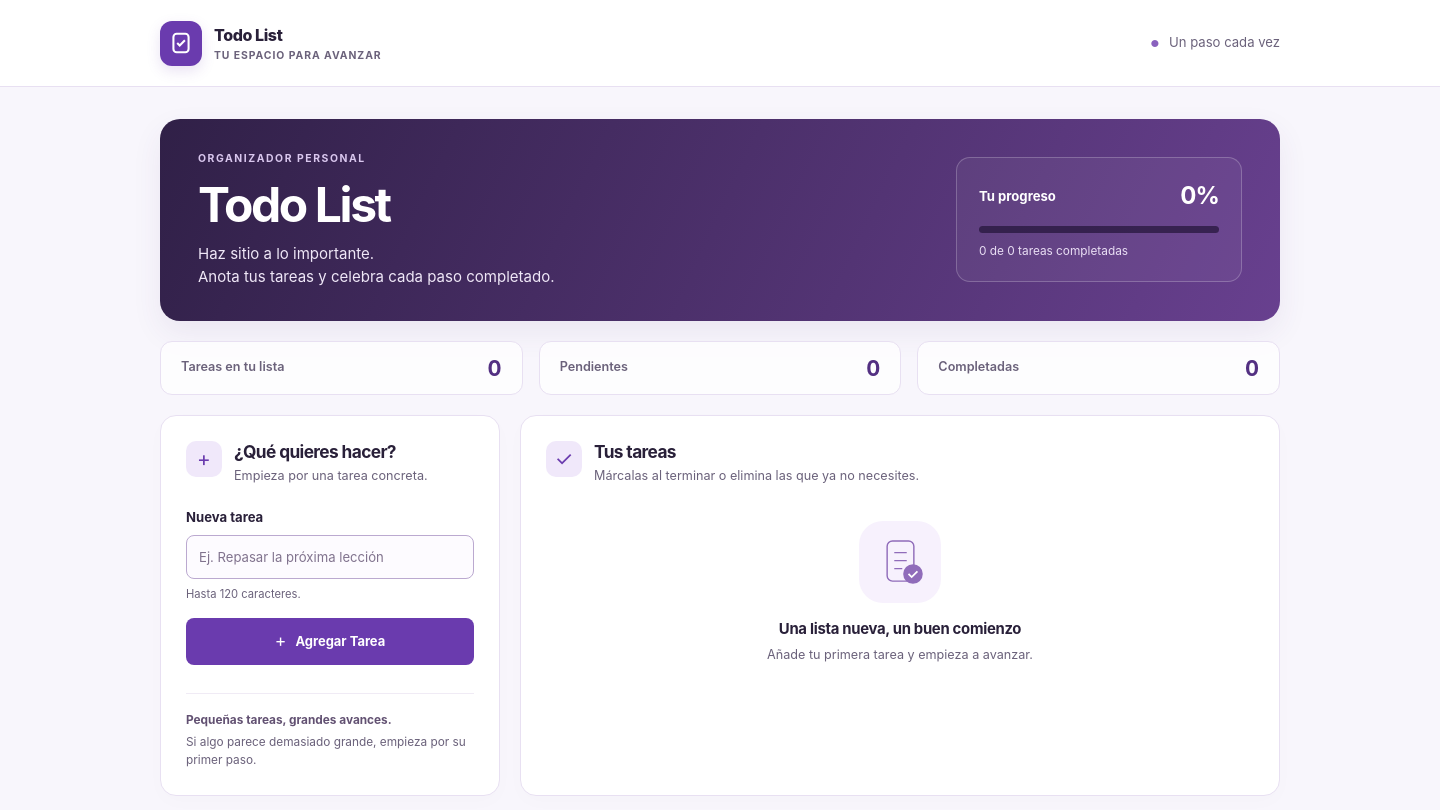
Test: TodoApp · aceptación del flujo de usuario › permite agregar, completar, reabrir y eliminar una tarea
The image size is (1440, 810).
Type "Tarea importante" into the field labelled "Nueva tarea".
click(330, 557); type("Tarea importante")  # box top-left (186, 535), bottom-right (474, 579)
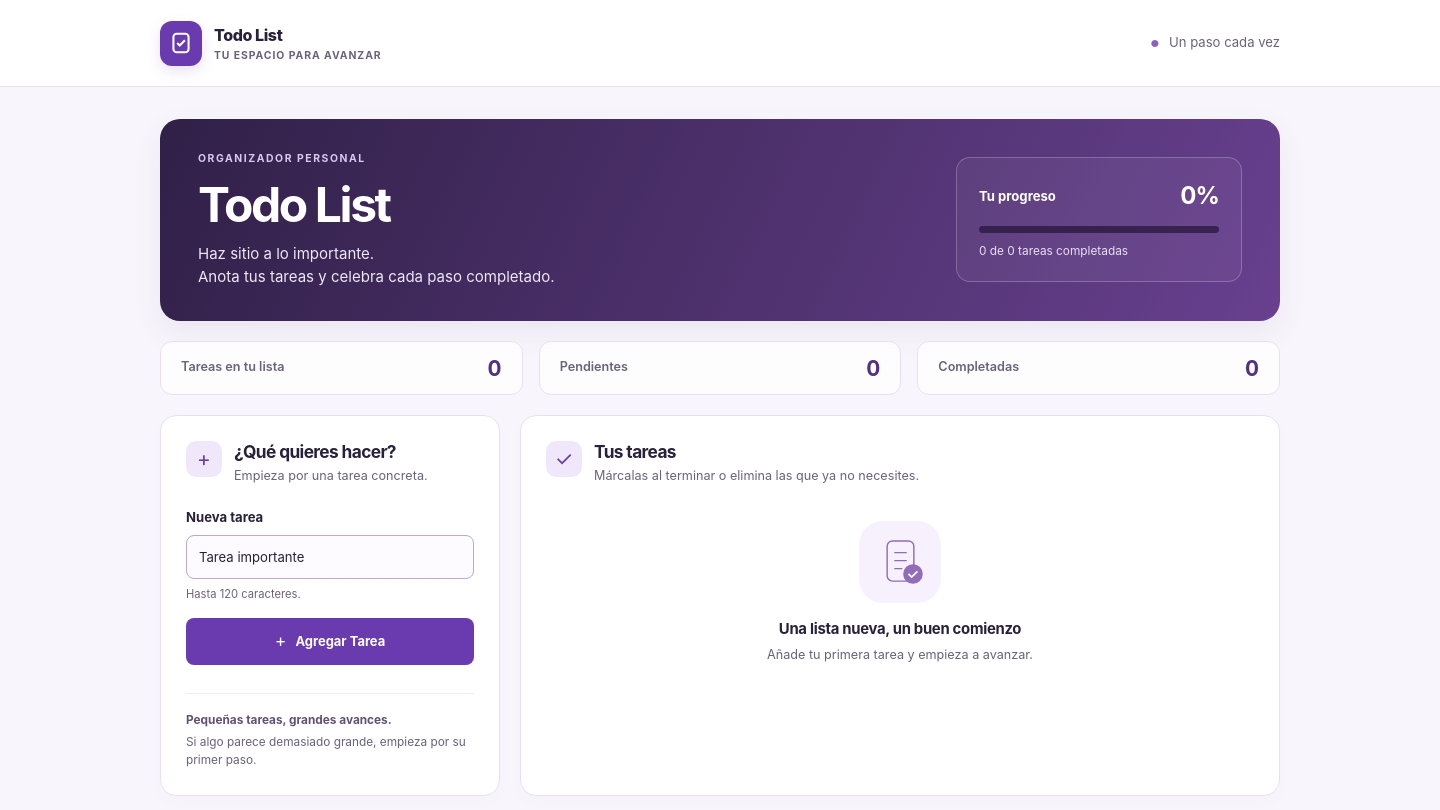
Click the button "+ Agregar Tarea".
click(330, 641)  # box top-left (186, 618), bottom-right (474, 665)
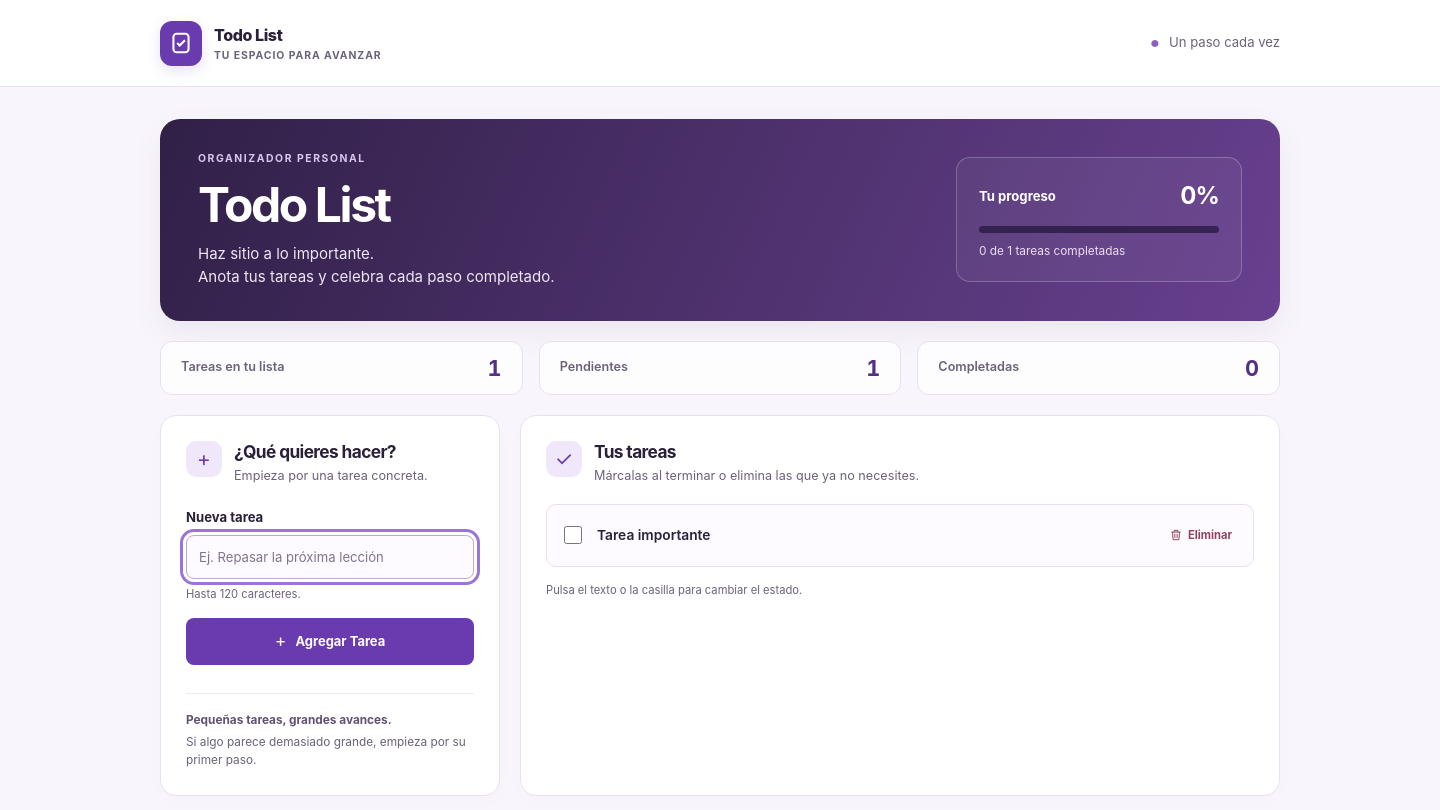
Check: the text "Tarea importante" is shown
Click the text "Tarea importante".
click(654, 535)  # box top-left (597, 525), bottom-right (710, 546)
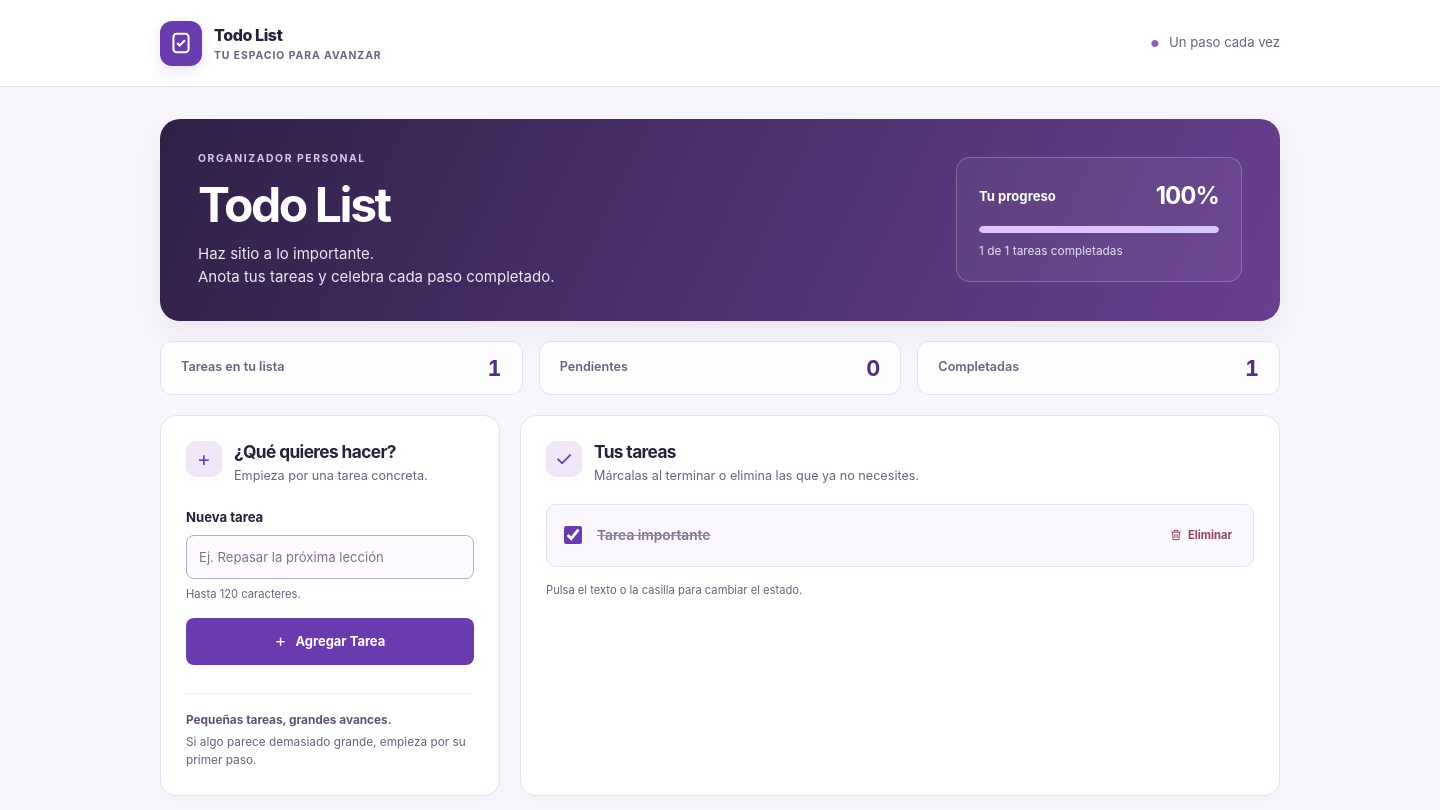
Check: the checkbox named "Reabrir: Tarea importante" is checked
Click the checkbox named "Reabrir: Tarea importante".
click(573, 535)  # box top-left (564, 526), bottom-right (582, 544)
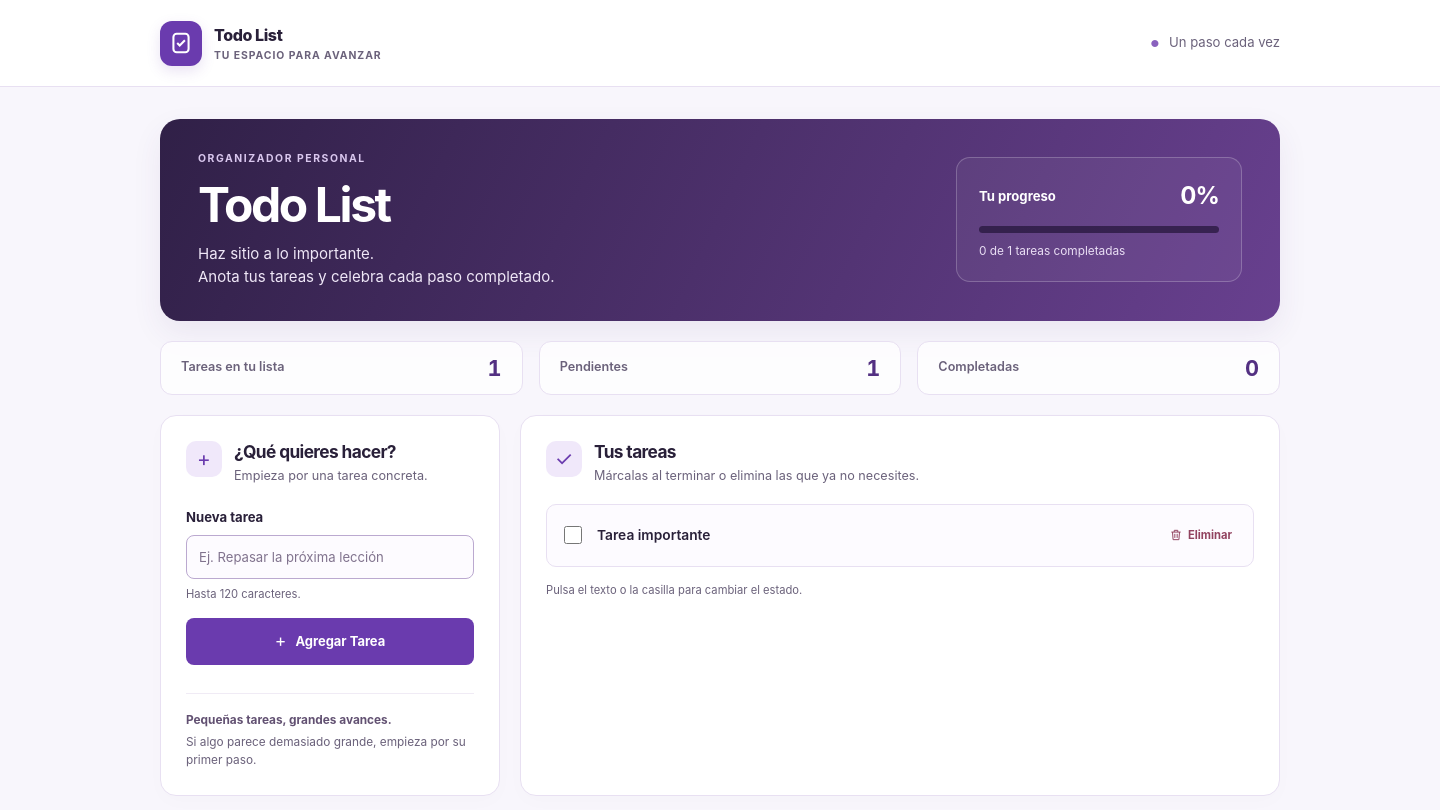
Check: the text "Tarea importante" does not have class "completed", box top-left (597, 525), bottom-right (710, 546)
Click the button with aria-label "Eliminar: Tarea importante".
click(1200, 535)  # box top-left (1161, 519), bottom-right (1240, 551)
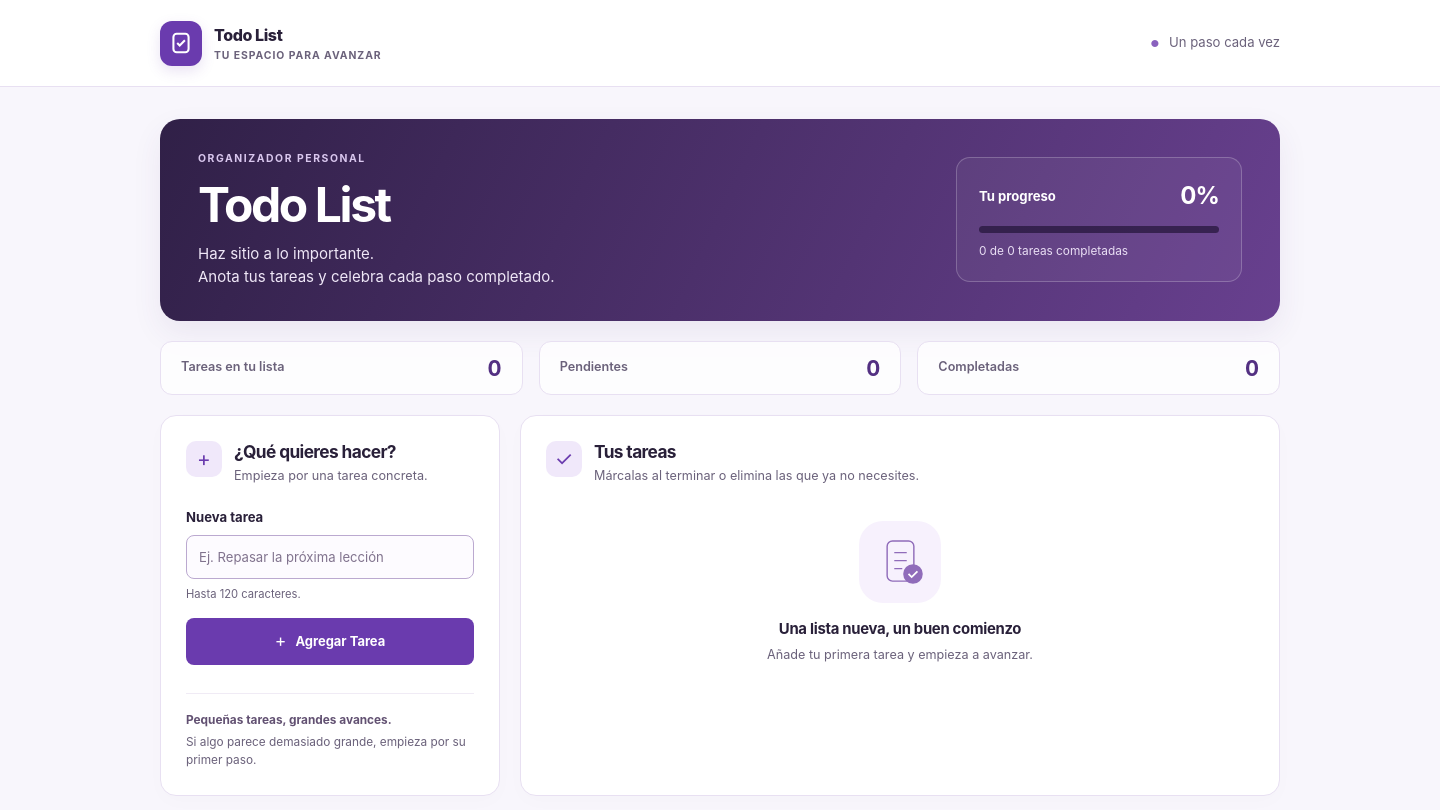
Check: the text "Tarea importante" is gone
Check: no list items are shown
